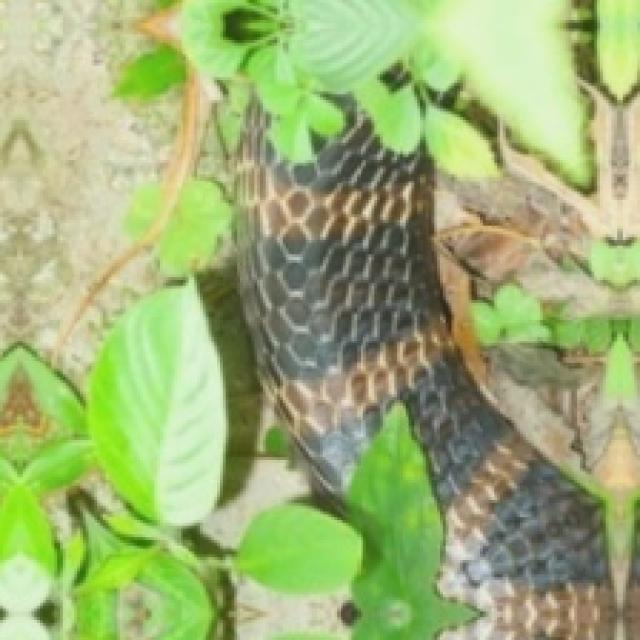king cobra: (234, 103, 637, 637)
